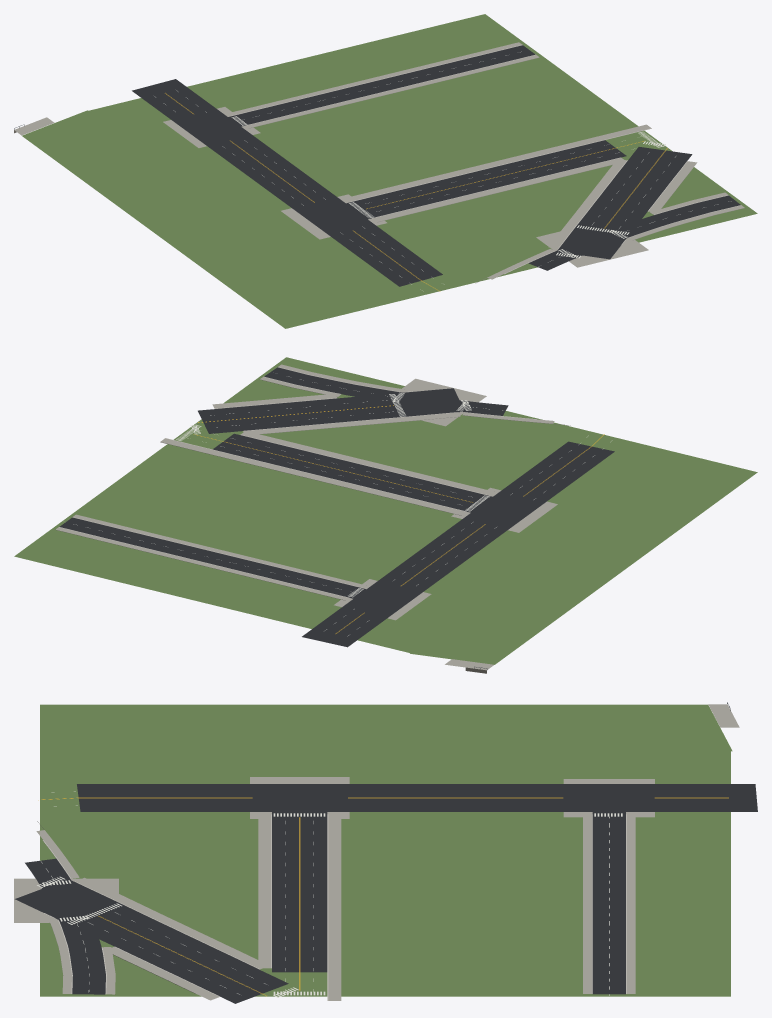
The model's file is Ground_0_1.fbx.
The picture shows the model from 3 angles, top to bottom: view 1: azimuth 30°, elevation 25°; view 2: azimuth 150°, elevation 25°; view 3: azimuth 270°, elevation 25°; orthographic projection. The views are drawn at different scales.
Parts seen in each view (by area): view 1: Ground_0_1; view 2: Ground_0_1; view 3: Ground_0_1.
Part boxes in pixels (box(x1,y1,x2,y2)): Ground_0_1: box(14, 14, 757, 328); Ground_0_1: box(14, 357, 757, 673); Ground_0_1: box(14, 702, 757, 1003).
Size of the model in its own units: 256 by 2.65 by 269.
